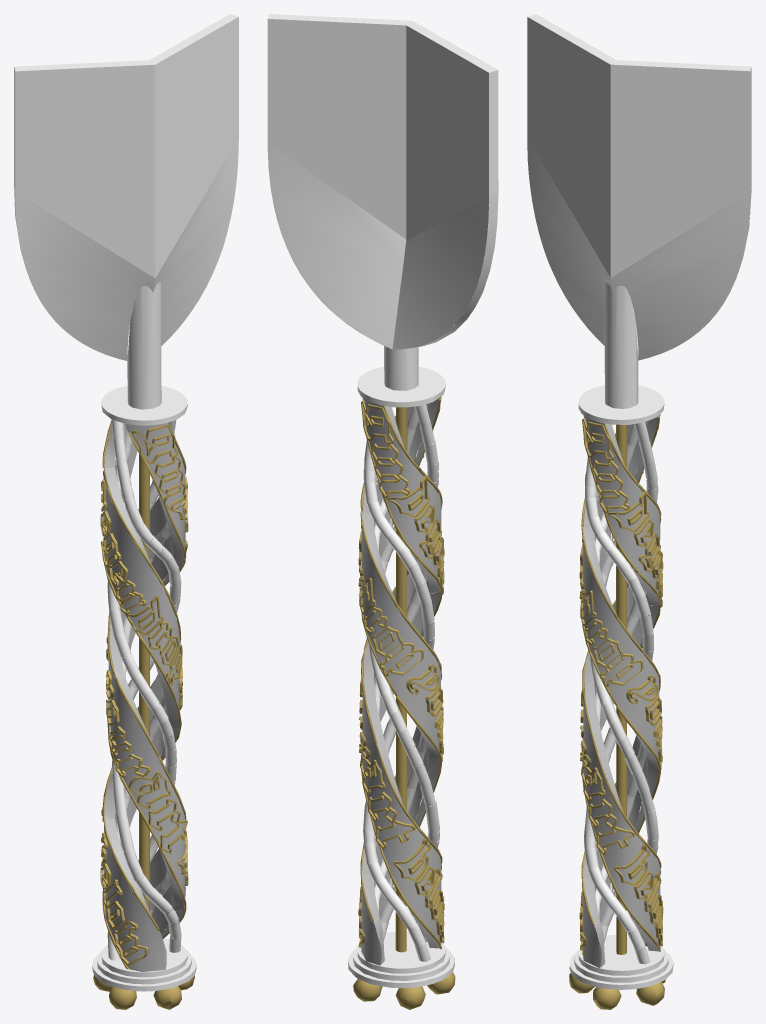
File: midasspade-gray-v113.glb
3 views of the same model, side by side, from view 1: azimuth 30°, elevation 25°; view 2: azimuth 150°, elevation 25°; view 3: azimuth 330°, elevation 25° (orthographic). The views are drawn at different scales.
Parts seen in each view (by area): view 1: /Chrome_Black; view 2: /Chrome_Black; view 3: /Chrome_Black.
Boxes of the visible parts, box(x1,y1,x2,y2) form: /Chrome_Black: box(14, 14, 238, 1009); /Chrome_Black: box(267, 14, 498, 1009); /Chrome_Black: box(527, 14, 751, 1009).
Size of the model in its own units: 0.4573 by 1.83 by 0.186.
1 material, 1 textured.
